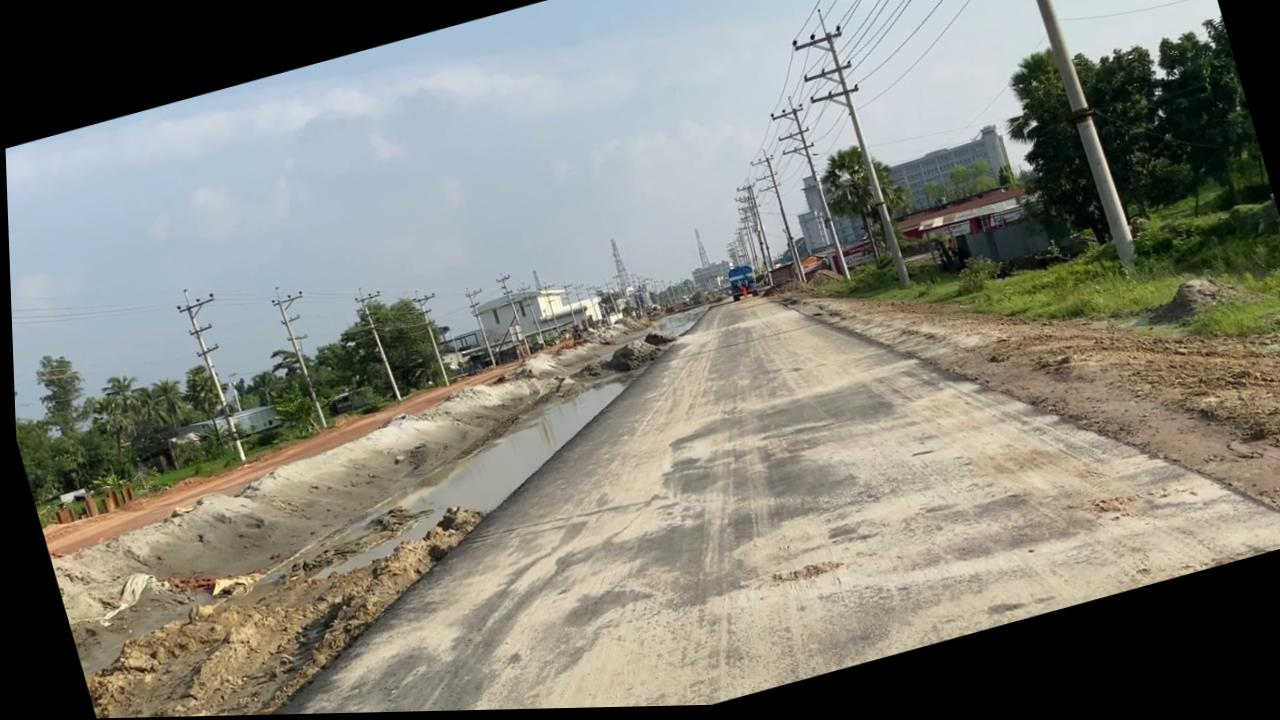Muddy road: (29, 387, 557, 720)
Pole: (1001, 0, 1142, 281), (779, 16, 907, 306), (760, 102, 847, 299), (171, 287, 258, 474)
Rickshaw: (487, 168, 1280, 712)
Sidewalk: (335, 352, 675, 567)
Stuck-water: (732, 292, 745, 309)
Traffic-sign: (977, 35, 1186, 270), (805, 145, 914, 287)
Tree: (319, 391, 369, 424), (718, 271, 755, 311)
